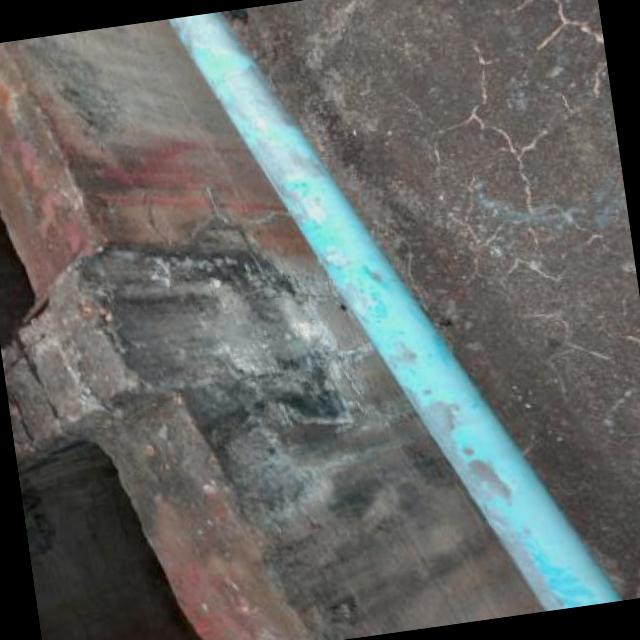gas: (167, 11, 621, 611)
